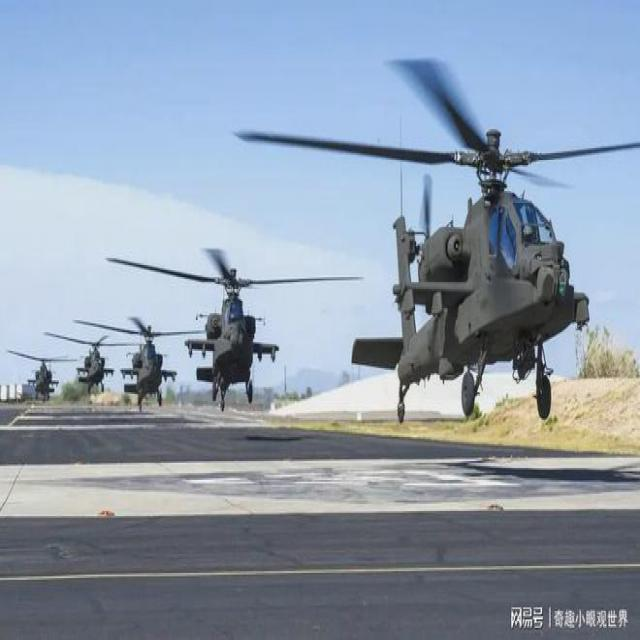MIL_HELO: (240, 49, 640, 424), (104, 218, 361, 420), (74, 306, 224, 414), (48, 320, 139, 400)
